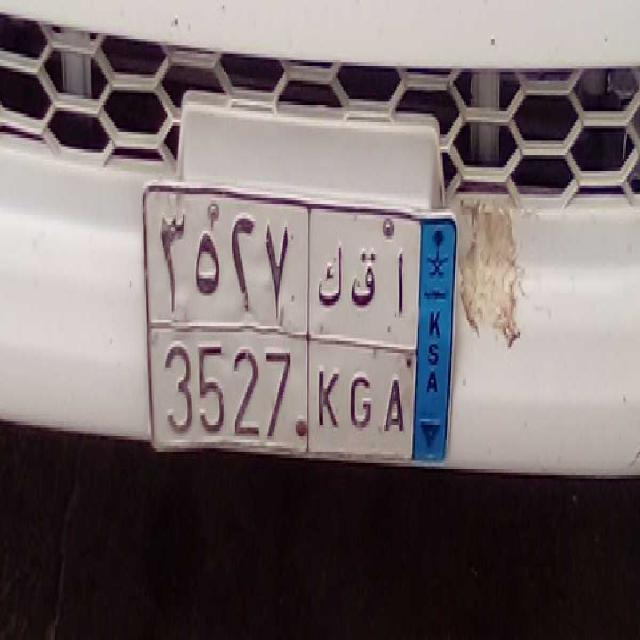license_plate: (147, 322, 413, 464)
